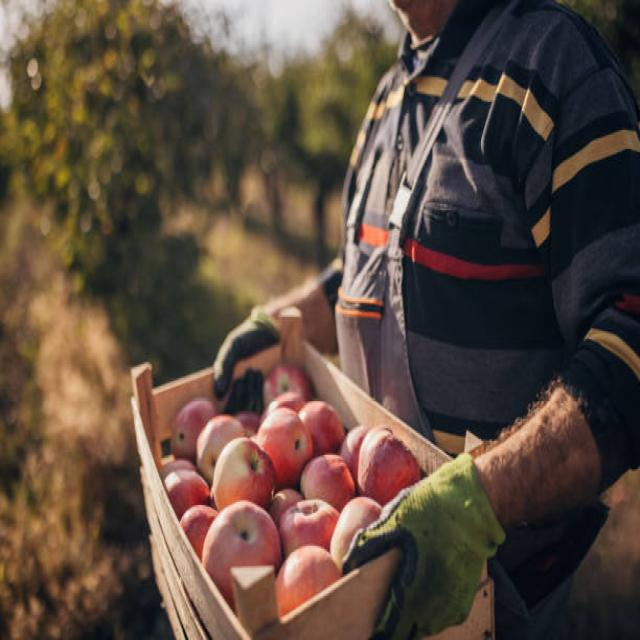Gloves: (340, 445, 513, 640), (209, 301, 293, 429)
person: (215, 0, 640, 640)
